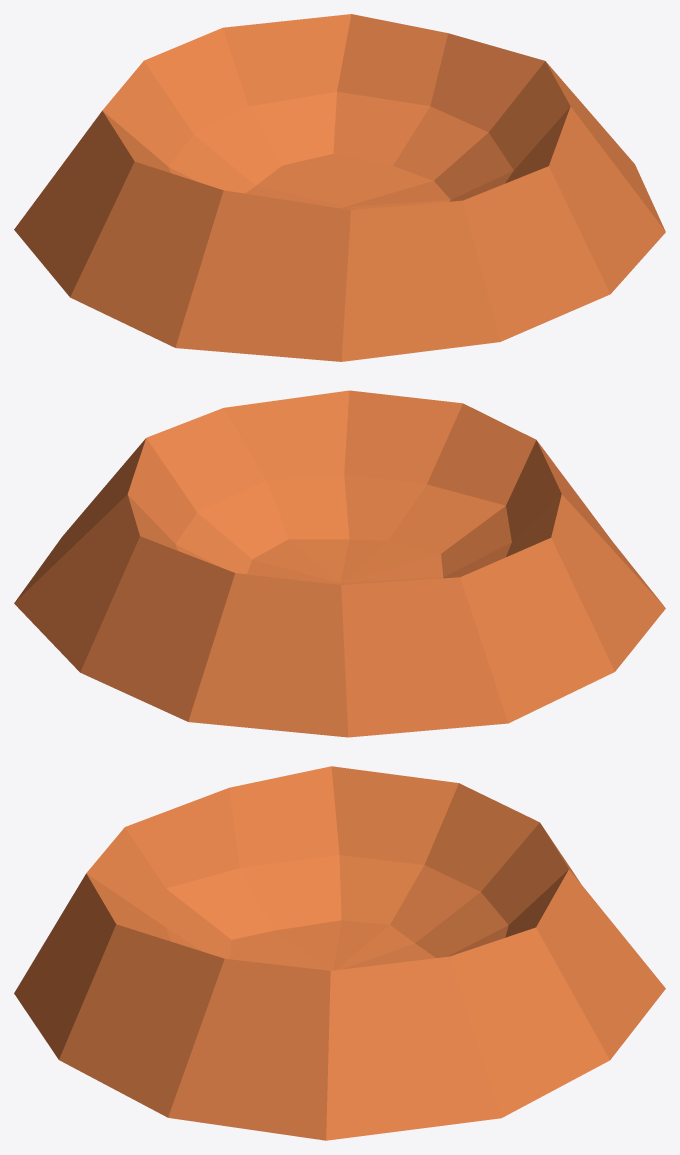
The model's file is crater.glb.
3 renders of one model, top to bottom at view 1: azimuth 30°, elevation 25°; view 2: azimuth 150°, elevation 25°; view 3: azimuth 270°, elevation 25°, orthographic. The views are drawn at different scales.
Parts seen in each view (by area): view 1: Cylinder; view 2: Cylinder; view 3: Cylinder.
Boxes of the visible parts, x1=… form: Cylinder: x1=14, y1=14, x2=665, y2=361; Cylinder: x1=14, y1=390, x2=665, y2=737; Cylinder: x1=14, y1=766, x2=665, y2=1140.
Size of the model in its own units: 2.85 by 0.5959 by 2.79.
